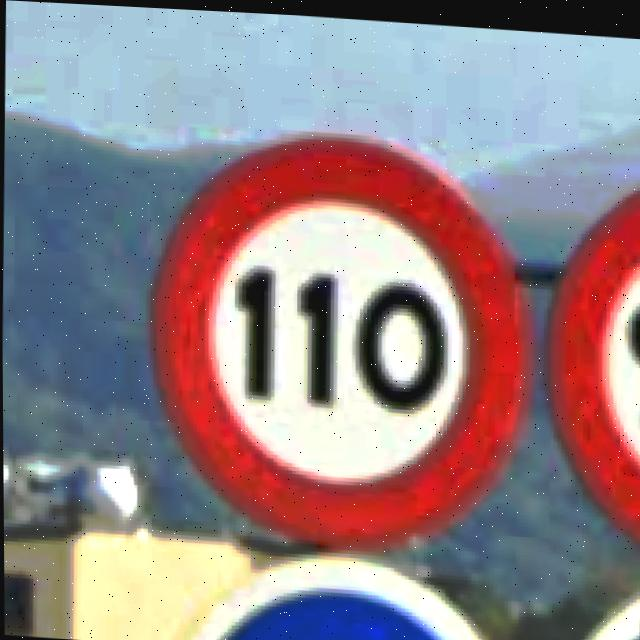max110: (140, 115, 533, 554)
